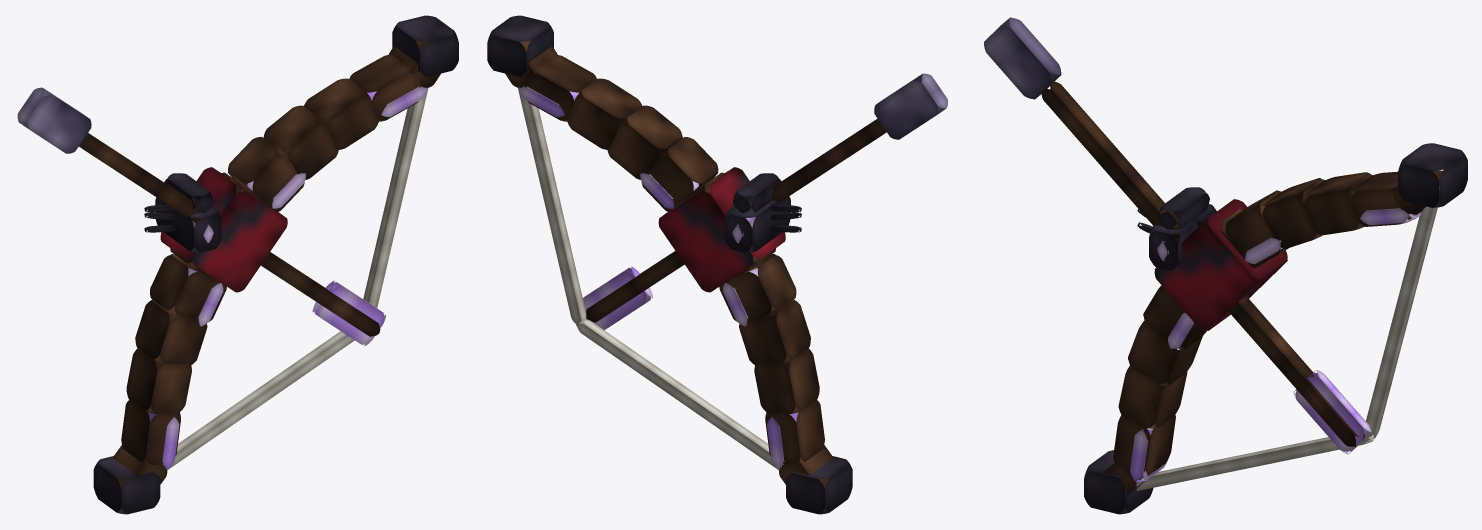
File: silkstring_bow_pulling_2.obj
3 renders of one model, left to right at view 1: azimuth 30°, elevation 25°; view 2: azimuth 150°, elevation 25°; view 3: azimuth 330°, elevation 25°, orthographic. The views are drawn at different scales.
Parts seen in each view (by area): view 1: lit, fire; view 2: lit, fire; view 3: lit, fire.
Boxes of the visible parts, bbox=[...] form: lit: bbox=[17, 15, 458, 514]; fire: bbox=[148, 86, 427, 469]; lit: bbox=[487, 15, 947, 514]; fire: bbox=[518, 86, 798, 469]; lit: bbox=[984, 17, 1467, 514]; fire: bbox=[1130, 208, 1421, 481].
Bounding box in the file's own units: 0.9752 × 0.9475 × 0.1562.
